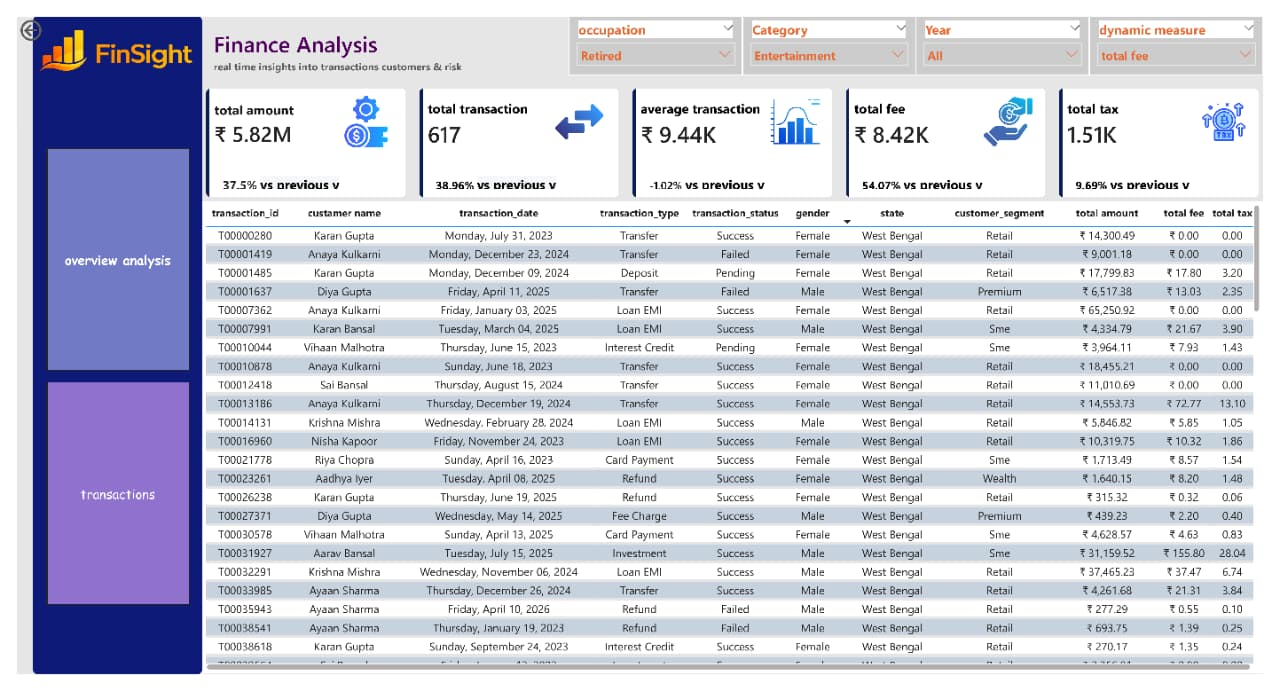

This screenshot's page, from the dashboard's own definition file:
{"tool":"powerbi","page":{"name":"transactions","canvas":[1800,950],"ordinal":1},"visuals":[{"type":"shape","box":[23.2,0,243.9,950.3],"z":0},{"type":"cardVisual","fields":{"Data":["finance_transactions.dashboard title"]},"box":[267.5,0,472.6,98.5],"z":1000},{"type":"cardVisual","fields":{"Data":["finance_transactions.total amount","calender table.total transaction","calender table.average transaction","calender table.total fee","calender table.total tax"]},"box":[267.5,98.5,1532.5,168.9],"z":2000},{"type":"image","box":[24.1,0,243.4,98.5],"z":6000},{"type":"image","box":[446.5,114.6,114.6,74.4],"z":7000},{"type":"image","box":[754.2,114.6,114.6,74.4],"z":8000},{"type":"image","box":[1065.9,114.6,114.6,74.4],"z":9000},{"type":"image","box":[1373.6,114.6,114.6,74.4],"z":10000},{"type":"image","box":[1685.4,114.6,114.6,74.4],"z":11000},{"type":"tableEx","fields":{"Values":["finance_transactions.transaction_id","customers finance analysis.custamer name","finance_transactions.transaction_date","finance_transactions.transaction_type","finance_transactions.transaction_status","customers finance analysis.gender","customers finance analysis.state","customers finance analysis.customer_segment","finance_transactions.total amount","calender table.total fee","calender table.total tax"]},"box":[267.5,267.5,1532.5,681.8],"z":12000},{"type":"actionButton","box":[0,0,100,40],"z":13000},{"type":"slicer","fields":{"Values":["calender table.year"]},"box":[1298.4,0,250.8,84.9],"z":13001},{"type":"slicer","fields":{"Values":["dynamic measure.dynamic measure"]},"box":[1549.2,0,250.8,84.9],"z":13002},{"type":"slicer","fields":{"Values":["customers finance analysis.occupation"]},"box":[796.9,0,250.8,84.9],"z":13003},{"type":"slicer","fields":{"Values":["finance_transactions.merchant_category"]},"box":[1047.6,0,250.8,84.9],"z":13004},{"type":"pageNavigator","box":[42.5,190.1,206.3,660],"z":13005}]}

Visuals, with their boxes in screenshot pixels (x1, y1, x2, y2), scaled from the page's 1800x950 canvas onto the 1280x691 screenshot:
shape: select_region(16, 0, 190, 690)
cardVisual - finance_transactions.dashboard title: select_region(190, 0, 526, 72)
cardVisual - finance_transactions.total amount x calender table.total transaction: select_region(190, 72, 1279, 194)
image: select_region(17, 0, 190, 72)
image: select_region(318, 83, 399, 137)
image: select_region(536, 83, 618, 137)
image: select_region(758, 83, 839, 137)
image: select_region(977, 83, 1058, 137)
image: select_region(1199, 83, 1279, 137)
tableEx - finance_transactions.transaction_id x customers finance analysis.custamer name: select_region(190, 195, 1279, 690)
actionButton: select_region(0, 0, 71, 29)
slicer - calender table.year: select_region(923, 0, 1102, 62)
slicer - dynamic measure.dynamic measure: select_region(1102, 0, 1279, 62)
slicer - customers finance analysis.occupation: select_region(567, 0, 745, 62)
slicer - finance_transactions.merchant_category: select_region(745, 0, 923, 62)
pageNavigator: select_region(30, 138, 177, 618)
